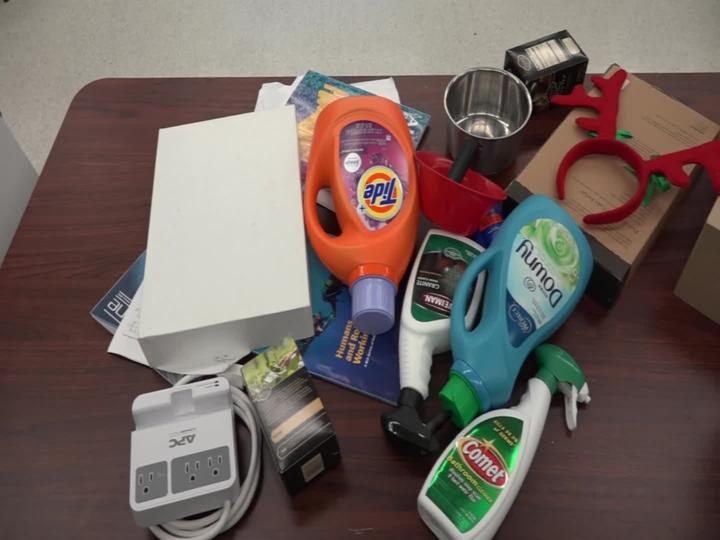tide: (284, 85, 432, 339)
